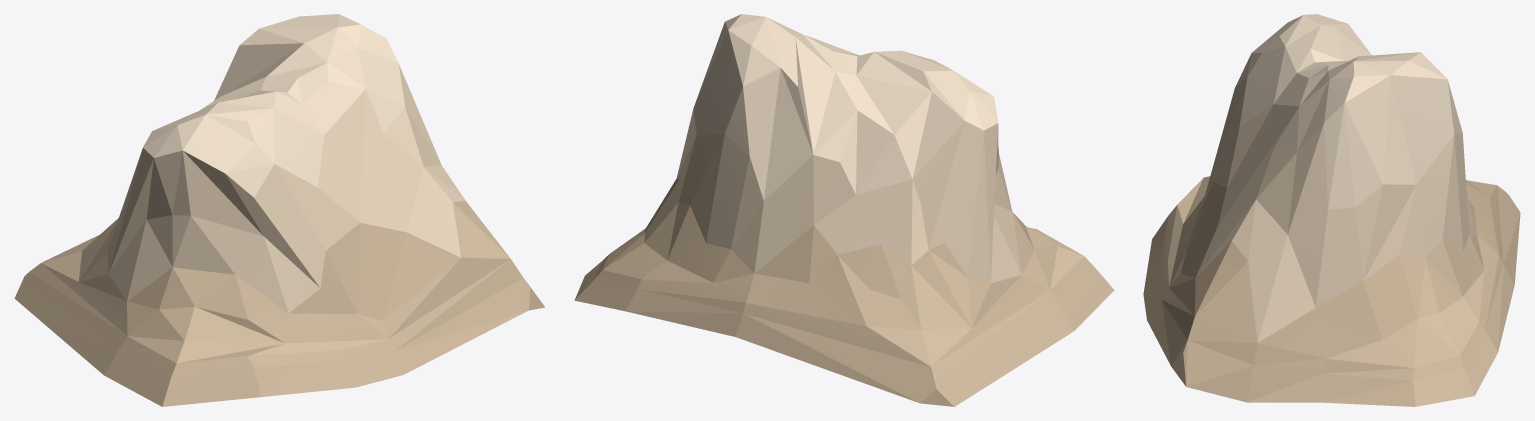
The model's file is mountain_3.fbx.
3 renders of one model, left to right at view 1: azimuth 30°, elevation 25°; view 2: azimuth 150°, elevation 25°; view 3: azimuth 270°, elevation 25°, orthographic. The views are drawn at different scales.
Visible parts, largest first — view 1: mountain_3; view 2: mountain_3; view 3: mountain_3.
Part boxes in pixels (left/top/right/bottom): mountain_3: left=14, top=14, right=545, bottom=406; mountain_3: left=574, top=14, right=1114, bottom=406; mountain_3: left=1143, top=14, right=1520, bottom=406.
Size of the model in its own units: 1557 by 967 by 1196.
